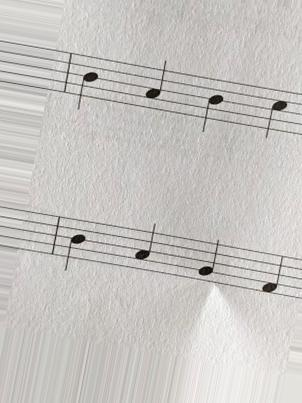A: (140, 59, 169, 114), (130, 222, 160, 274)
B: (196, 77, 226, 139), (72, 52, 102, 112), (61, 218, 90, 277)
F: (256, 252, 287, 301)
G: (194, 238, 224, 287)
HC: (264, 86, 290, 154)
